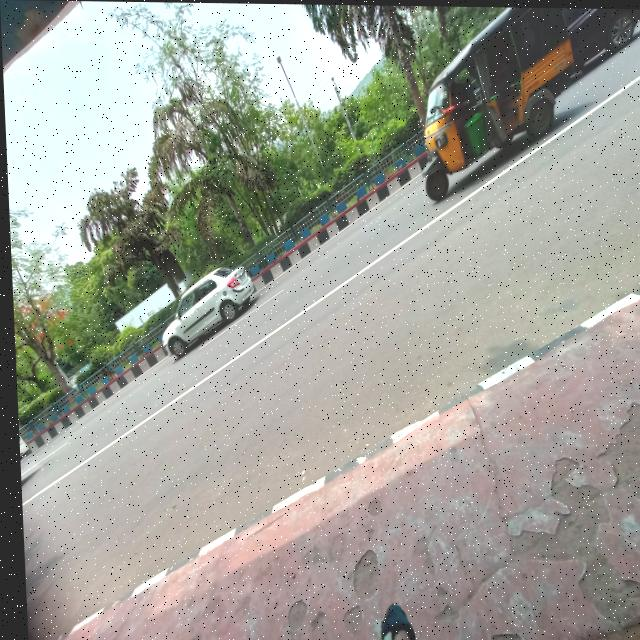car: (150, 268, 256, 359)
